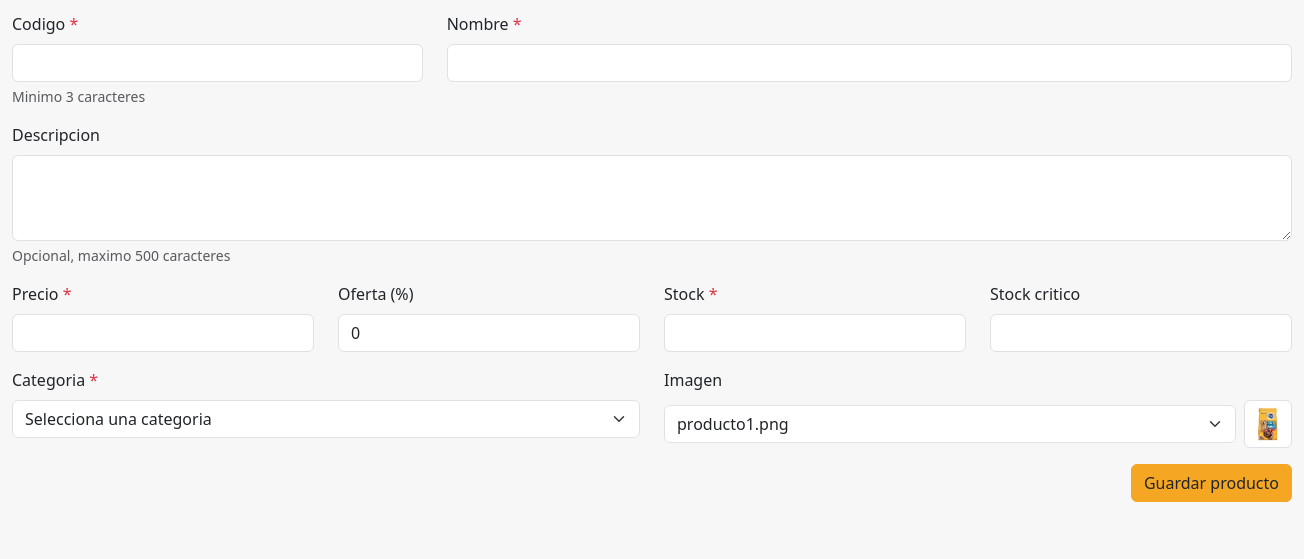
Test: FormularioProducto › valida numeros negativos y ofertas muy altas
In the number field labelled "Stock *": [815, 333] box [664,314,966,352], type "-2"
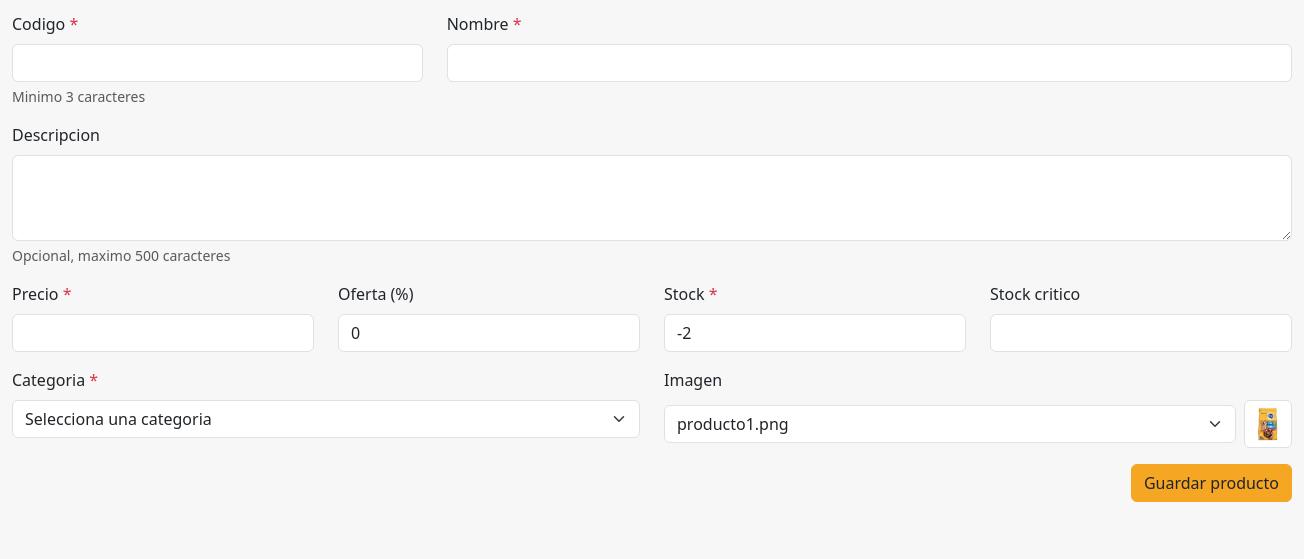
Replace the text in the number field labelled "Oferta (%)" with "95": [489, 333] box [338,314,640,352]
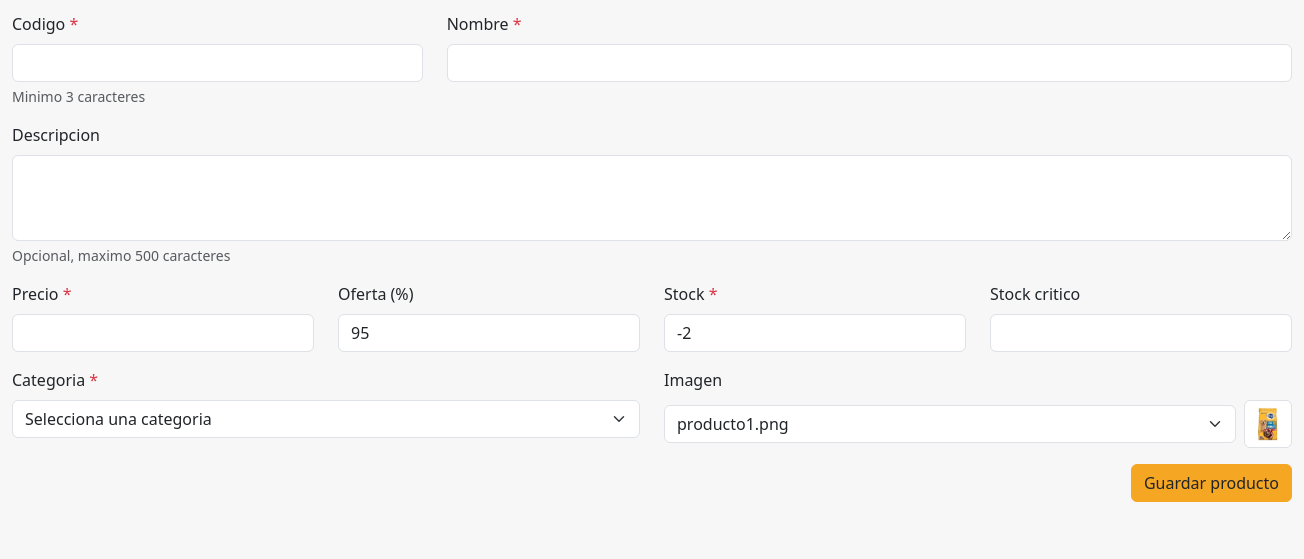
Click the button "Guardar producto": [1211, 483] box [1131,464,1292,502]
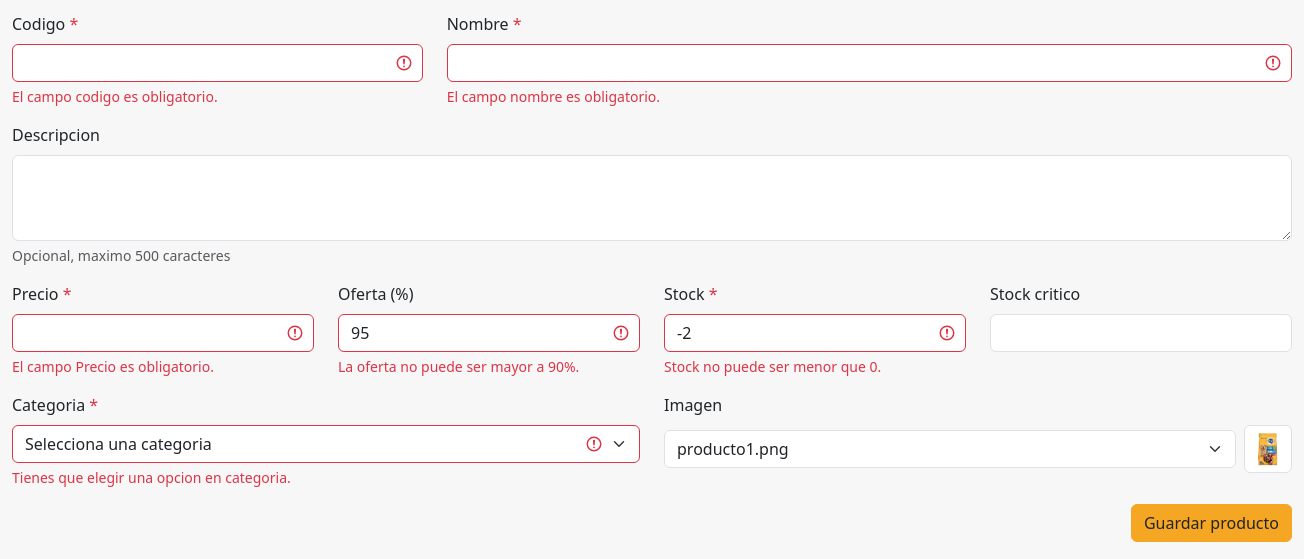
Check: the text "Stock no puede ser menor que 0." is shown, box [664,357,881,376]
Check: the text "La oferta no puede ser mayor a 90%." is shown, box [338,357,579,376]
